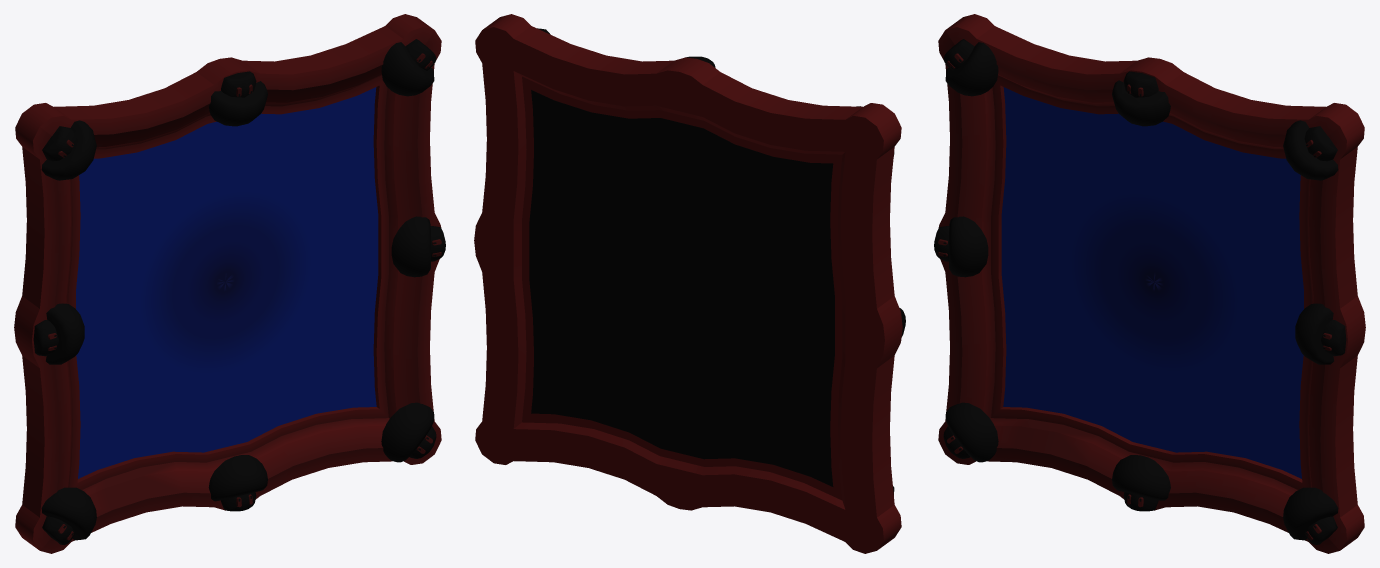
File: EventGate_Prefab.fbx
3 renders of one model, left to right at view 1: azimuth 30°, elevation 25°; view 2: azimuth 150°, elevation 25°; view 3: azimuth 330°, elevation 25°, orthographic.
Parts seen in each view (by area): view 1: Effect, Frame; view 2: Frame; view 3: Effect, Frame.
Boxes of the visible parts, left/top/right/bottom form: Effect: left=76, top=87, right=378, bottom=478; Frame: left=14, top=14, right=445, bottom=553; Frame: left=474, top=14, right=905, bottom=553; Effect: left=1001, top=87, right=1303, bottom=478; Frame: left=934, top=14, right=1365, bottom=553.
Size of the model in its own units: 12.77 by 12.98 by 1.65.
